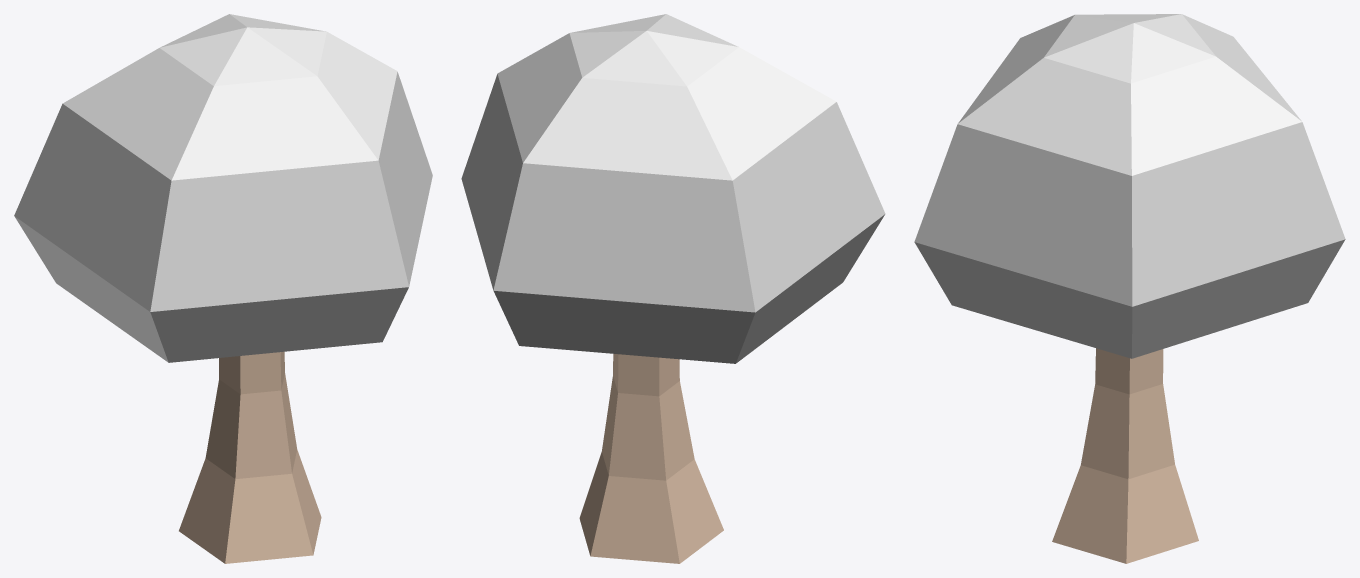
The model's file is AppleTree.fbx.
The picture shows the model from 3 angles, left to right: view 1: azimuth 30°, elevation 25°; view 2: azimuth 150°, elevation 25°; view 3: azimuth 270°, elevation 25°; orthographic projection.
Visible parts, largest first — view 1: AppleTree; view 2: AppleTree; view 3: AppleTree.
Boxes of the visible parts, box(x1,y1,x2,y2) form: AppleTree: box(14, 14, 432, 563); AppleTree: box(461, 14, 885, 563); AppleTree: box(914, 14, 1345, 563).
Size of the model in its own units: 5.9 by 8 by 6.17.
